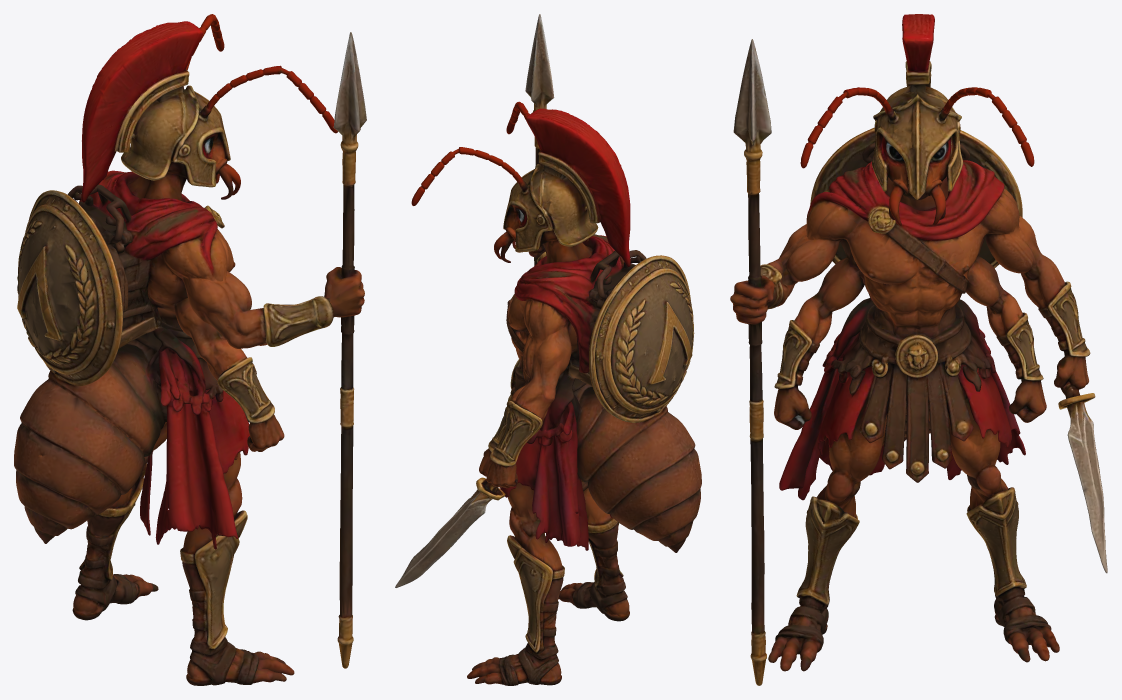
File: spartan_spear.glb
3 renders of one model, left to right at view 1: azimuth 30°, elevation 25°; view 2: azimuth 150°, elevation 25°; view 3: azimuth 270°, elevation 25°, orthographic. The views are drawn at different scales.
Visible parts, largest first — view 1: node_2384b8ee-82a0-4624-b52b-c7fa7b99c4ac; view 2: node_2384b8ee-82a0-4624-b52b-c7fa7b99c4ac; view 3: node_2384b8ee-82a0-4624-b52b-c7fa7b99c4ac.
Boxes of the visible parts, x1=… form: node_2384b8ee-82a0-4624-b52b-c7fa7b99c4ac: x1=14, y1=14, x2=366, y2=685; node_2384b8ee-82a0-4624-b52b-c7fa7b99c4ac: x1=395, y1=14, x2=701, y2=685; node_2384b8ee-82a0-4624-b52b-c7fa7b99c4ac: x1=730, y1=14, x2=1107, y2=685.
Size of the model in its own units: 0.4409 by 0.9999 by 0.5238.
1 material, 1 textured.
